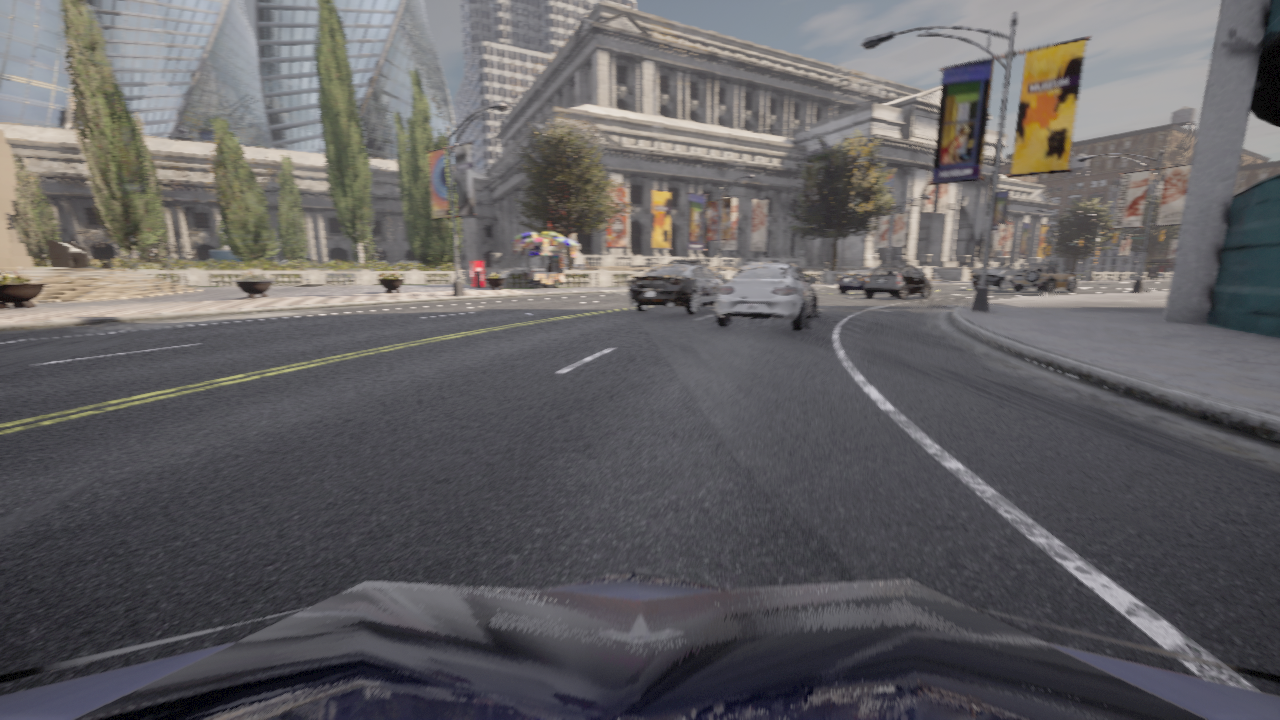cyclist: (0, 569, 1279, 719), (710, 262, 821, 330), (629, 260, 727, 314), (863, 265, 931, 300), (1010, 263, 1078, 292), (971, 267, 1027, 290), (837, 269, 873, 293)
